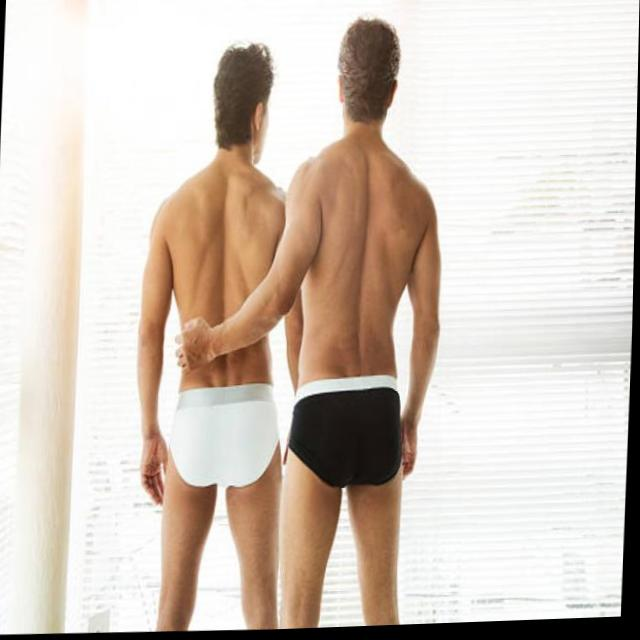no helmet: (328, 0, 408, 163), (199, 38, 285, 178)
